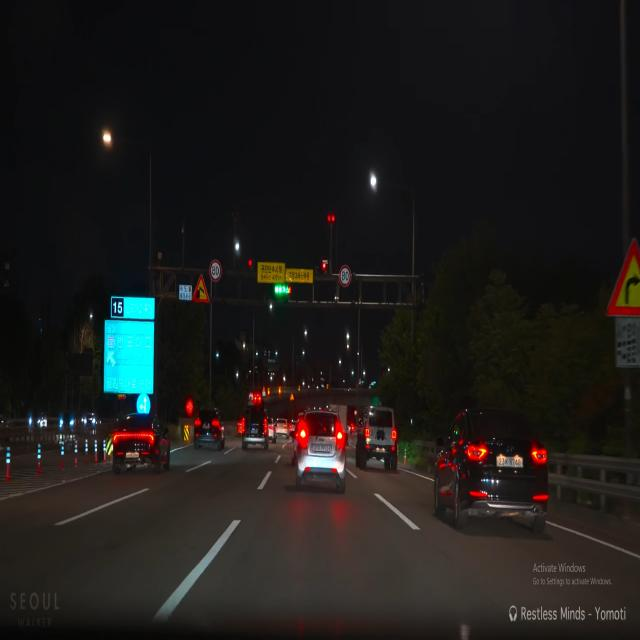headlights: (56, 412, 76, 430), (80, 414, 99, 432)
